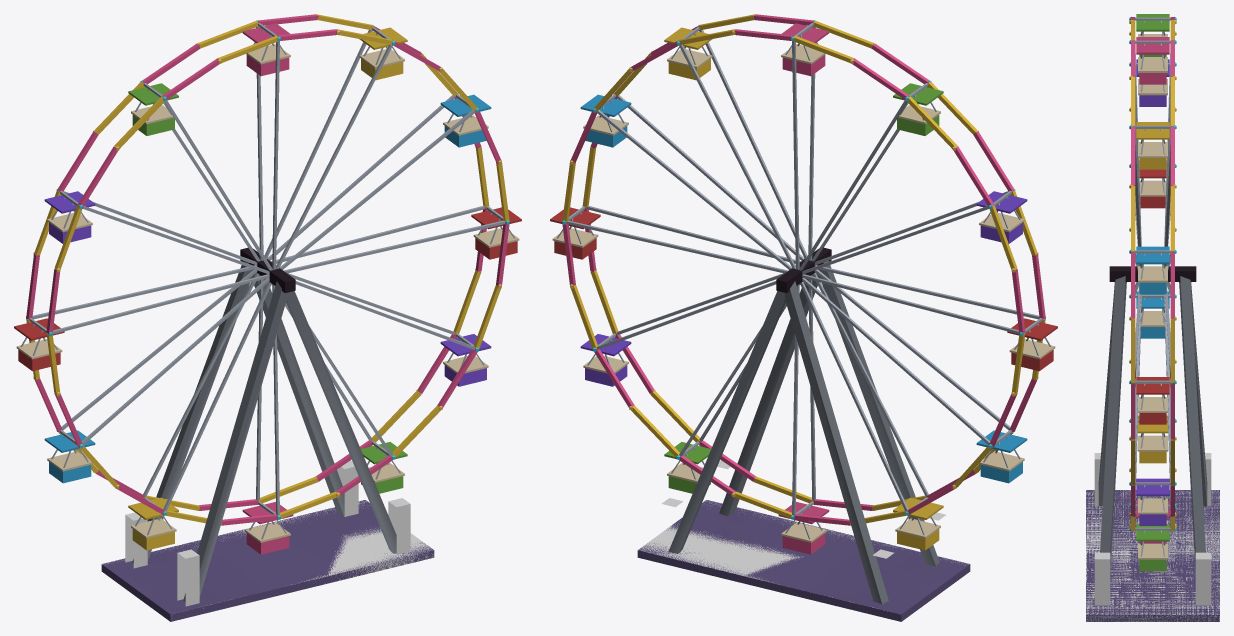
The model's file is ferris_wheel.glb.
The picture shows the model from 3 angles, left to right: view 1: azimuth 30°, elevation 25°; view 2: azimuth 150°, elevation 25°; view 3: azimuth 270°, elevation 25°; orthographic projection. The views are drawn at different scales.
Parts seen in each view (by area): view 1: DYN_rotor, ferris_wheel, COL_4, DYN_car7, DYN_car8, DYN_car9, DYN_car6, DYN_car5, DYN_car1, DYN_car3, DYN_car2, DYN_car4 (+7 smaller); view 2: DYN_rotor, ferris_wheel, COL_4, DYN_car7, DYN_car8, DYN_car9, DYN_car6, DYN_car5, DYN_car1, DYN_car3, DYN_car2, DYN_car4 (+3 smaller); view 3: ferris_wheel, DYN_rotor, COL_4, DYN_car1, DYN_car11, DYN_car3, DYN_car10, DYN_car0, DYN_car2, DYN_car8, DYN_car7, DYN_car6 (+6 smaller).
Part boxes in pixels (bbox=[...]): DYN_rotor: bbox=[26, 14, 509, 525]; ferris_wheel: bbox=[101, 247, 434, 621]; COL_4: bbox=[102, 500, 433, 618]; DYN_car7: bbox=[44, 430, 95, 483]; DYN_car8: bbox=[128, 497, 178, 550]; DYN_car9: bbox=[242, 502, 293, 554]; DYN_car6: bbox=[14, 318, 64, 371]; DYN_car5: bbox=[44, 191, 95, 243]; DYN_car1: bbox=[440, 94, 491, 147]; DYN_car3: bbox=[242, 23, 290, 76]; DYN_car2: bbox=[359, 27, 407, 80]; DYN_car4: bbox=[128, 83, 178, 135]; DYN_rotor: bbox=[562, 14, 1045, 525]; ferris_wheel: bbox=[637, 247, 970, 621]; COL_4: bbox=[638, 500, 968, 611]; DYN_car7: bbox=[976, 430, 1027, 483]; DYN_car8: bbox=[893, 497, 943, 550]; DYN_car9: bbox=[778, 502, 829, 554]; DYN_car6: bbox=[1007, 318, 1057, 371]; DYN_car5: bbox=[976, 191, 1027, 243]; DYN_car1: bbox=[580, 94, 631, 147]; DYN_car3: bbox=[781, 23, 829, 76]; DYN_car2: bbox=[664, 27, 712, 80]; DYN_car4: bbox=[893, 83, 943, 135]; ferris_wheel: bbox=[1086, 266, 1219, 621]; DYN_rotor: bbox=[1129, 16, 1176, 531]; COL_4: bbox=[1086, 490, 1219, 621]; DYN_car1: bbox=[1136, 246, 1169, 294]; DYN_car11: bbox=[1136, 478, 1169, 525]; DYN_car3: bbox=[1136, 37, 1169, 84]; DYN_car10: bbox=[1136, 524, 1169, 571]; DYN_car0: bbox=[1136, 377, 1169, 424]; DYN_car2: bbox=[1136, 122, 1169, 169]; DYN_car8: bbox=[1137, 415, 1168, 463]; DYN_car7: bbox=[1136, 291, 1169, 338]; DYN_car6: bbox=[1139, 161, 1166, 208].
Bounding box in the file's own units: 27.9 × 29.23 × 6.8.
